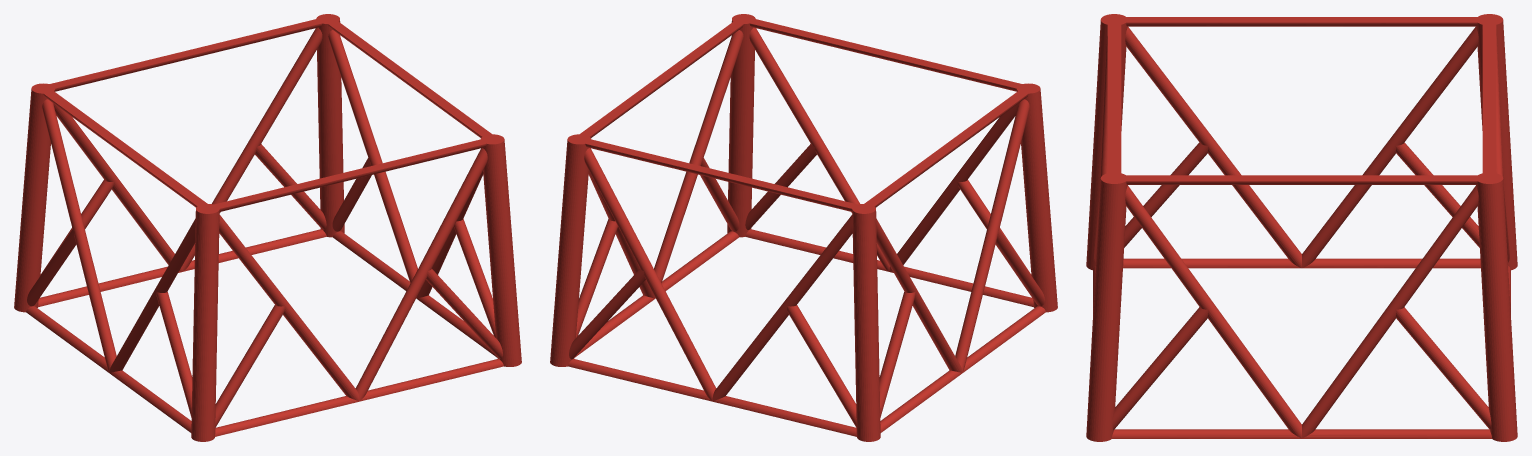
The picture shows the model from 3 angles, left to right: view 1: azimuth 30°, elevation 25°; view 2: azimuth 150°, elevation 25°; view 3: azimuth 270°, elevation 25°; orthographic projection. The views are drawn at different scales.
Visible parts, largest first — view 1: H15-H16; view 2: H15-H16; view 3: H15-H16.
Boxes of the visible parts, left/top/right/bottom form: H15-H16: left=14, top=14, right=521, bottom=441; H15-H16: left=550, top=14, right=1057, bottom=441; H15-H16: left=1086, top=14, right=1517, bottom=441.
Bounding box in the file's own units: 15.84 × 10.2 × 15.84.
